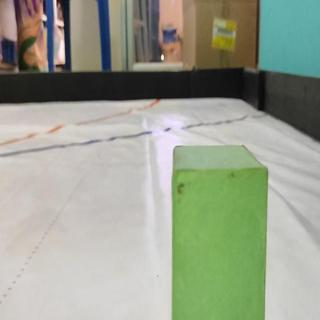greenbox: (169, 141, 271, 320)
